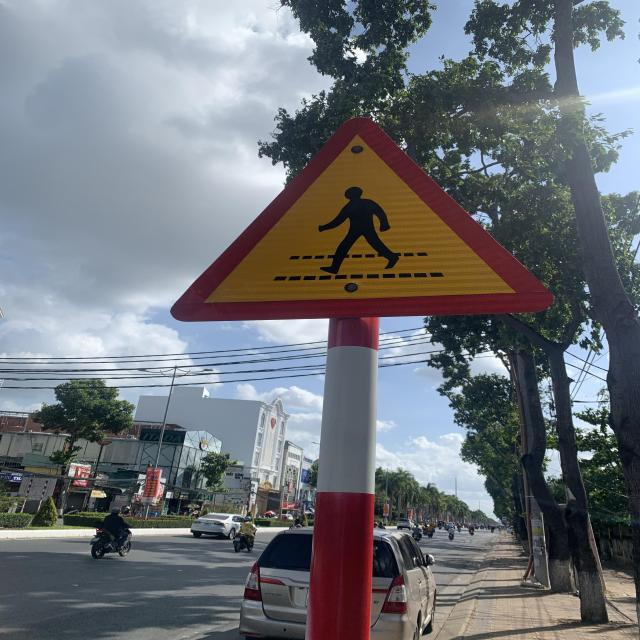Duong_Nguoi_Di_Bo_Sang_Ngang: (173, 111, 555, 322)
